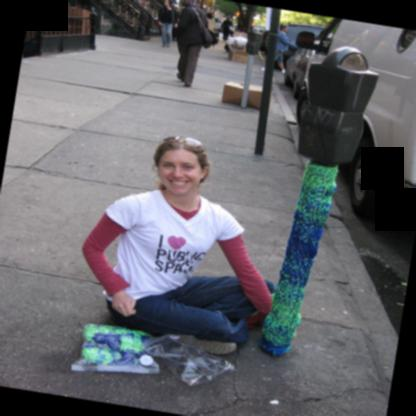handbag: (191, 7, 219, 48), (170, 9, 175, 23), (228, 24, 235, 32)
